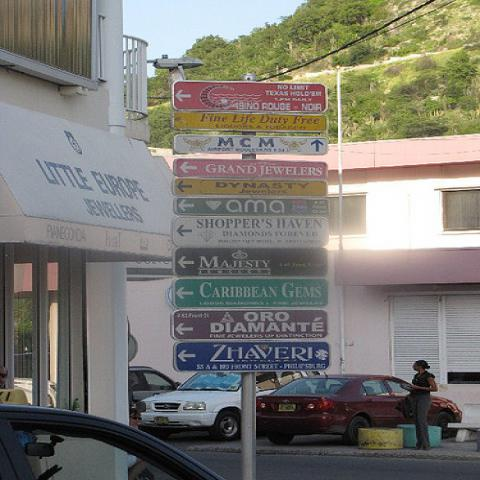car: (0, 403, 231, 480), (256, 374, 464, 446), (128, 366, 175, 410)
truck: (134, 369, 328, 442), (127, 364, 180, 402)
